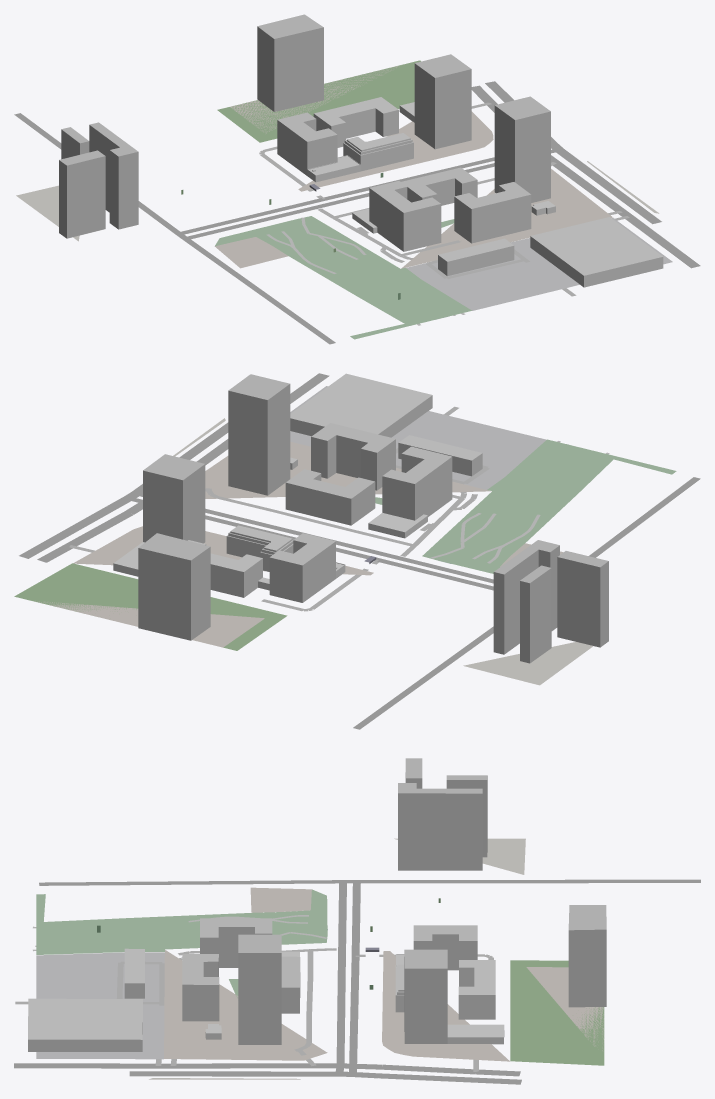
3 views of the same model, one above another, from view 1: azimuth 30°, elevation 25°; view 2: azimuth 150°, elevation 25°; view 3: azimuth 270°, elevation 25° (orthographic). The views are drawn at different scales.
Size of the model in its own units: 519 by 89.89 by 605.
